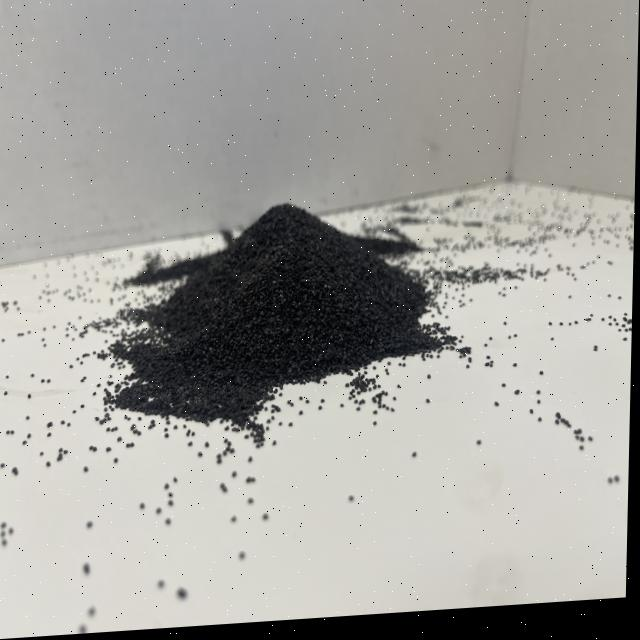Poppy Seeds: (89, 170, 499, 452)
